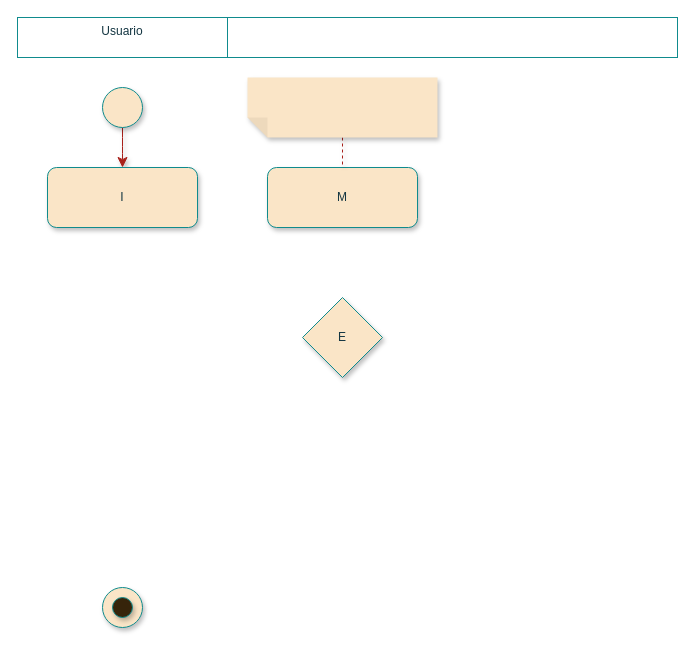
This 695x652 diagram has some shape labels left out. The shapes that lost their labels are listed below. From the top down, each one's centre as x and y in pixels, then its label:
pixel 452 37: SGVac
pixel 343 108: Correo electrónico, empresa, contraseña y confirmación
